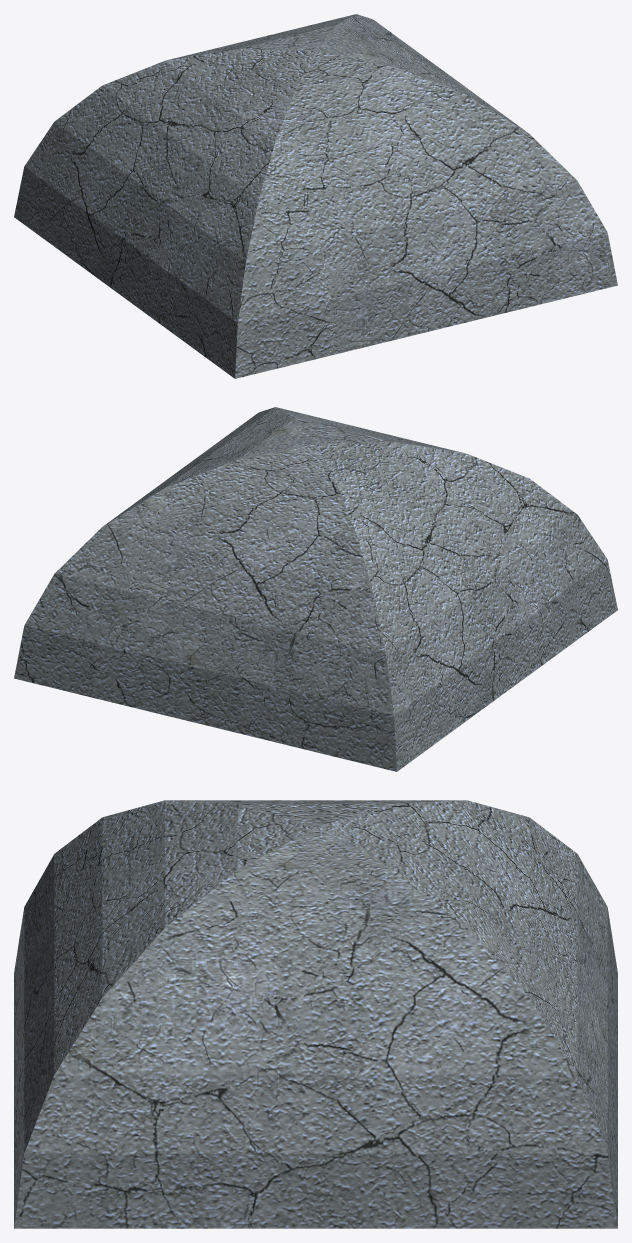
File: ceiling_05.fbx
3 views of the same model, one above another, from view 1: azimuth 30°, elevation 25°; view 2: azimuth 150°, elevation 25°; view 3: azimuth 270°, elevation 25° (orthographic). The views are drawn at different scales.
Visible parts, largest first — view 1: ceiling_05; view 2: ceiling_05; view 3: ceiling_05.
Boxes of the visible parts, left/top/right/bottom form: ceiling_05: left=14, top=14, right=617, bottom=378; ceiling_05: left=14, top=407, right=617, bottom=771; ceiling_05: left=14, top=800, right=617, bottom=1228.
Bounding box in the file's own units: 100 × 50 × 100.
